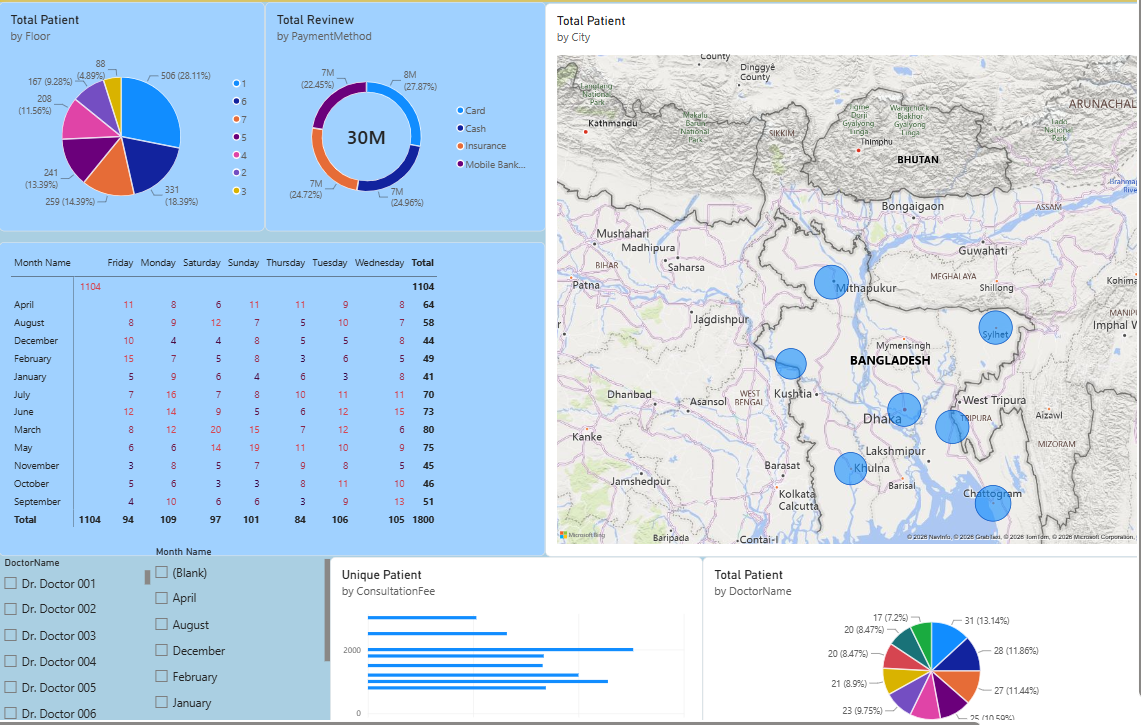

The page's visual inventory and layout, read from the dashboard file:
{"tool":"powerbi","page":{"name":"Page 3","canvas":[1920,1080],"ordinal":2},"visuals":[{"type":"textbox","box":[10,0,280,280],"z":0},{"type":"textbox","box":[9.8,290.2,1762.7,174.5],"z":1000},{"type":"pieChart","fields":{"Category":["DimDepartment.Floor"],"Y":["ALL Measure.Total Patient"]},"box":[0,0,386.3,333.3],"z":2000},{"type":"donutChart","fields":{"Category":["FactTransaction.PaymentMethod"],"Y":["ALL Measure.Total Revinew"]},"box":[387,0,407.8,333.3],"z":3000},{"type":"pivotTable","fields":{"Columns":["DimCalendar.Day Name"],"Rows":["DimCalendar.Month Name"],"Values":["ALL Measure.Total Patient"]},"box":[0,349.9,794.1,456.9],"z":4000},{"type":"map","fields":{"Category":["DimPatient.City"],"Size":["ALL Measure.Total Patient"]},"box":[794.5,2.1,1006.5,804.8],"z":4001},{"type":"slicer","fields":{"Values":["DimDoctor.DoctorName"]},"box":[0,806.9,220.2,273.8],"z":4002},{"type":"slicer","fields":{"Values":["DimCalendar.Month Name"]},"box":[220.2,790.4,261.4,290.2],"z":4003},{"type":"clusteredBarChart","fields":{"Category":["DimDoctor.ConsultationFee"],"Y":["ALL Measure.Unique Patient"]},"box":[481.6,806.9,541.3,273.8],"z":4004},{"type":"pieChart","fields":{"Category":["DimDoctor.DoctorName"],"Y":["ALL Measure.Total Patient"]},"box":[1023,807,779,273],"z":4005}]}

Visuals, with their boxes on the page's 1920x1080 design canvas (x1, y1, x2, y2). These are canvas units, not pixel positions in the 1141x725 screenshot, which may show the page scaled, cropped or inside an application window:
textbox: select_region(10, 0, 290, 280)
textbox: select_region(10, 290, 1772, 465)
pieChart - DimDepartment.Floor x ALL Measure.Total Patient: select_region(0, 0, 386, 333)
donutChart - FactTransaction.PaymentMethod x ALL Measure.Total Revinew: select_region(387, 0, 795, 333)
pivotTable - DimCalendar.Day Name x DimCalendar.Month Name: select_region(0, 350, 794, 807)
map - DimPatient.City x ALL Measure.Total Patient: select_region(794, 2, 1801, 807)
slicer - DimDoctor.DoctorName: select_region(0, 807, 220, 1081)
slicer - DimCalendar.Month Name: select_region(220, 790, 482, 1081)
clusteredBarChart - DimDoctor.ConsultationFee x ALL Measure.Unique Patient: select_region(482, 807, 1023, 1081)
pieChart - DimDoctor.DoctorName x ALL Measure.Total Patient: select_region(1023, 807, 1802, 1080)
